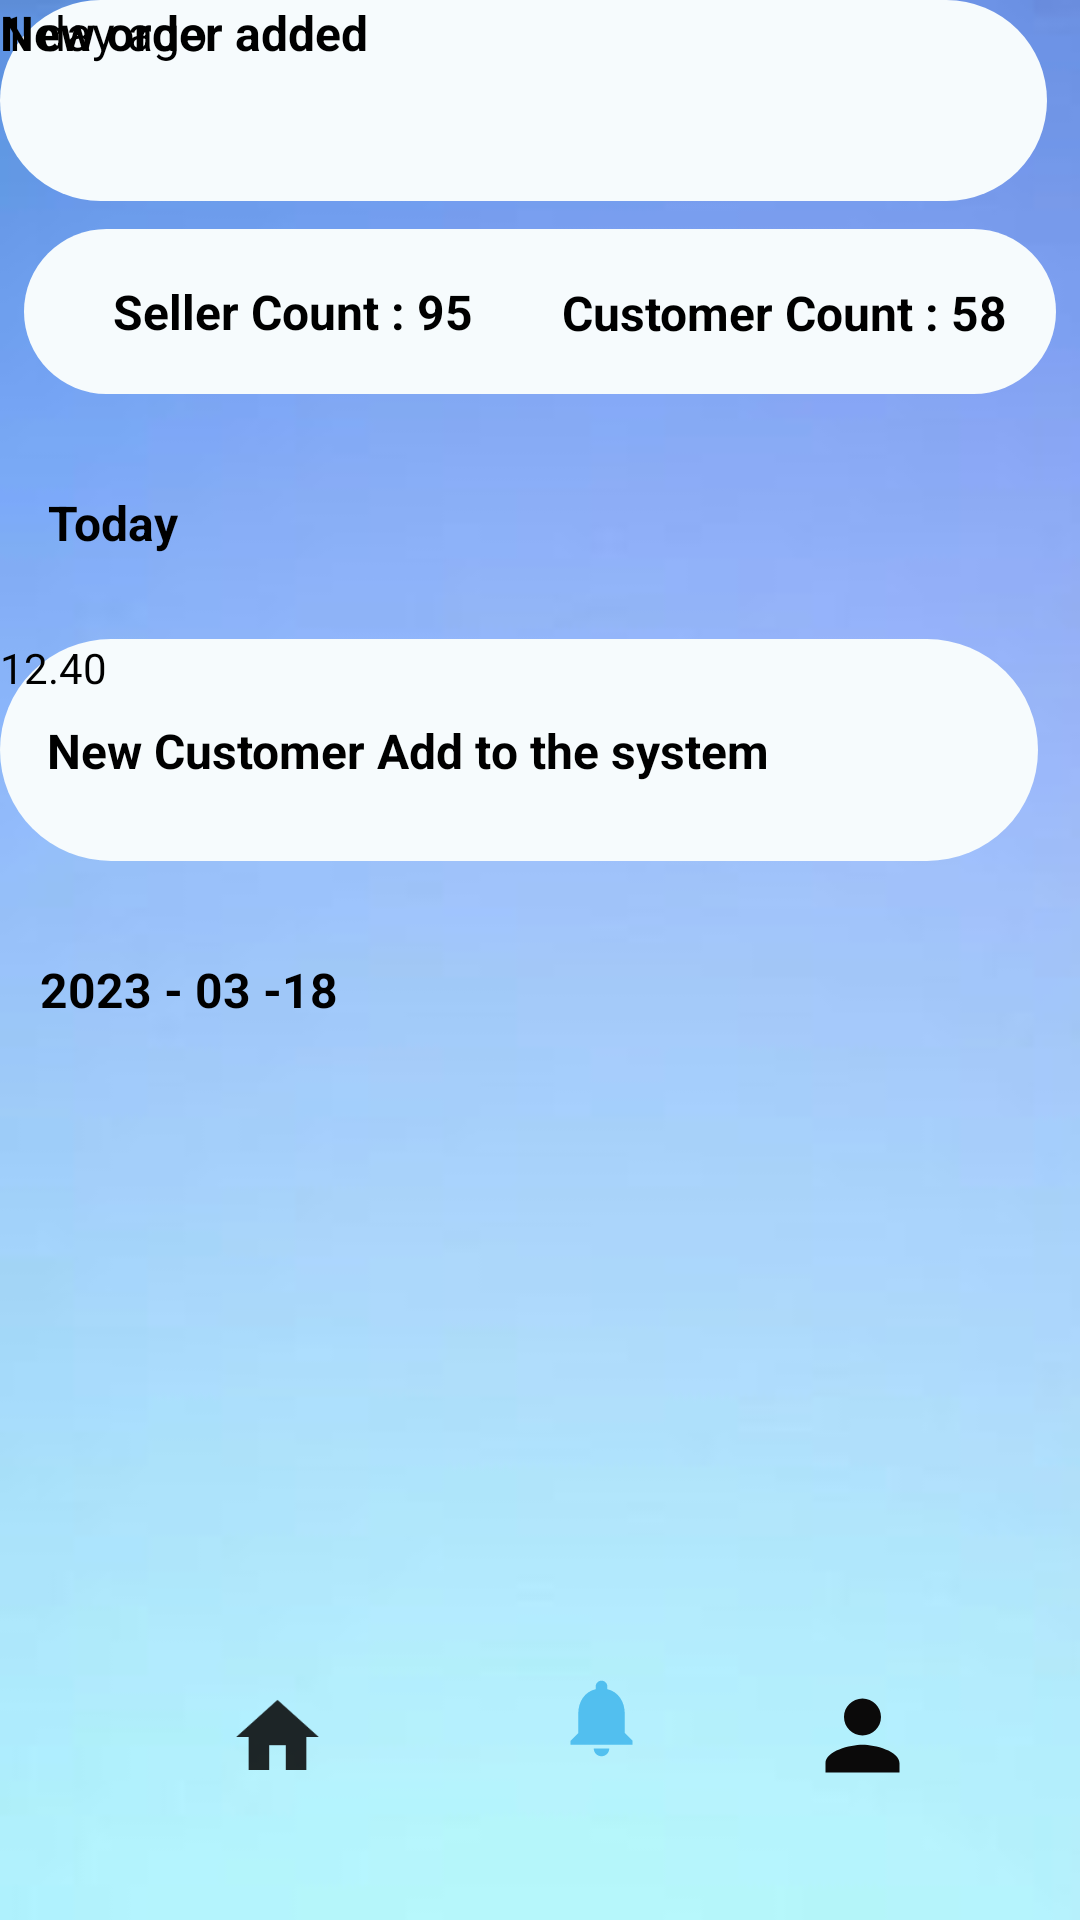

Icons on this 1080×1920 Android screen, each with its box as (x1, y1, x2, y2):
home: (236, 1700, 319, 1770)
notification: (570, 1680, 633, 1756)
person: (825, 1698, 900, 1773)
